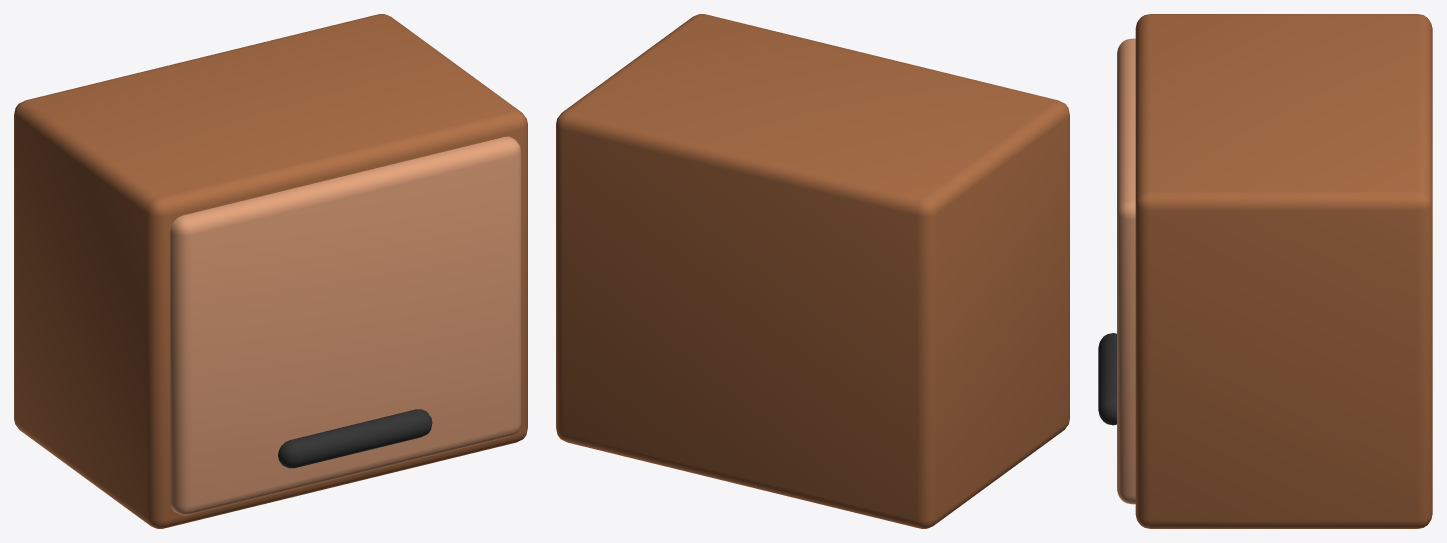
Rendered from tumba_verh_60x40x50_1.glb.
3 views of the same model, side by side, from view 1: azimuth 30°, elevation 25°; view 2: azimuth 150°, elevation 25°; view 3: azimuth 270°, elevation 25° (orthographic).
Parts seen in each view (by area): view 1: Cube.050; view 2: Cube.050; view 3: Cube.050.
Boxes of the visible parts, left/top/right/bottom form: Cube.050: left=14, top=14, right=527, bottom=528; Cube.050: left=556, top=14, right=1069, bottom=528; Cube.050: left=1098, top=14, right=1432, bottom=528.
Bounding box in the file's own units: 0.6 × 0.5 × 0.45.
